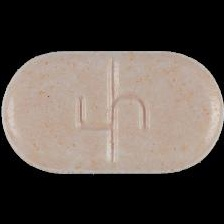62584-994: (0, 0, 224, 224)
